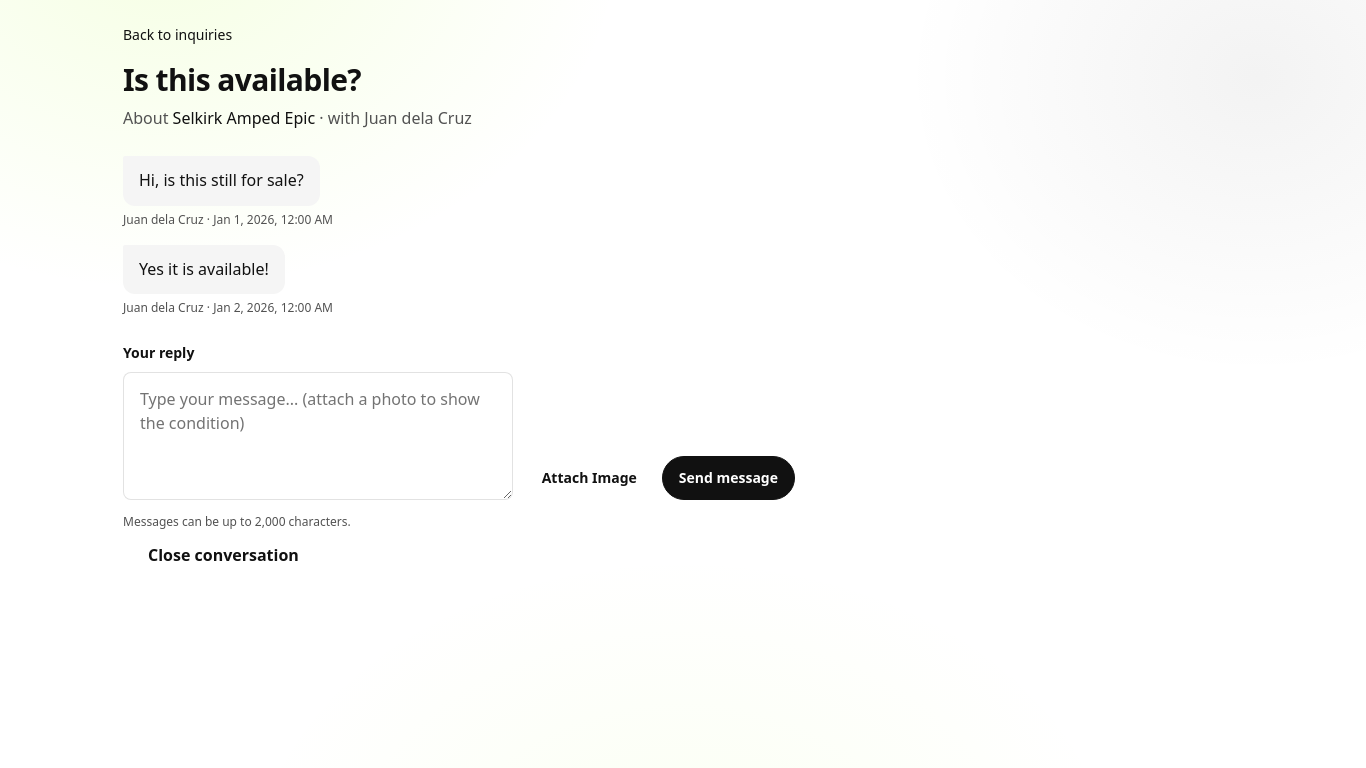
Scenario: InquiryDetailPage › sends a reply and appends it to the thread
Type "Great, it is yours!" into the text box labelled "Your reply".
click(318, 436); type("Great, it is yours!")  # box [123, 372, 513, 500]
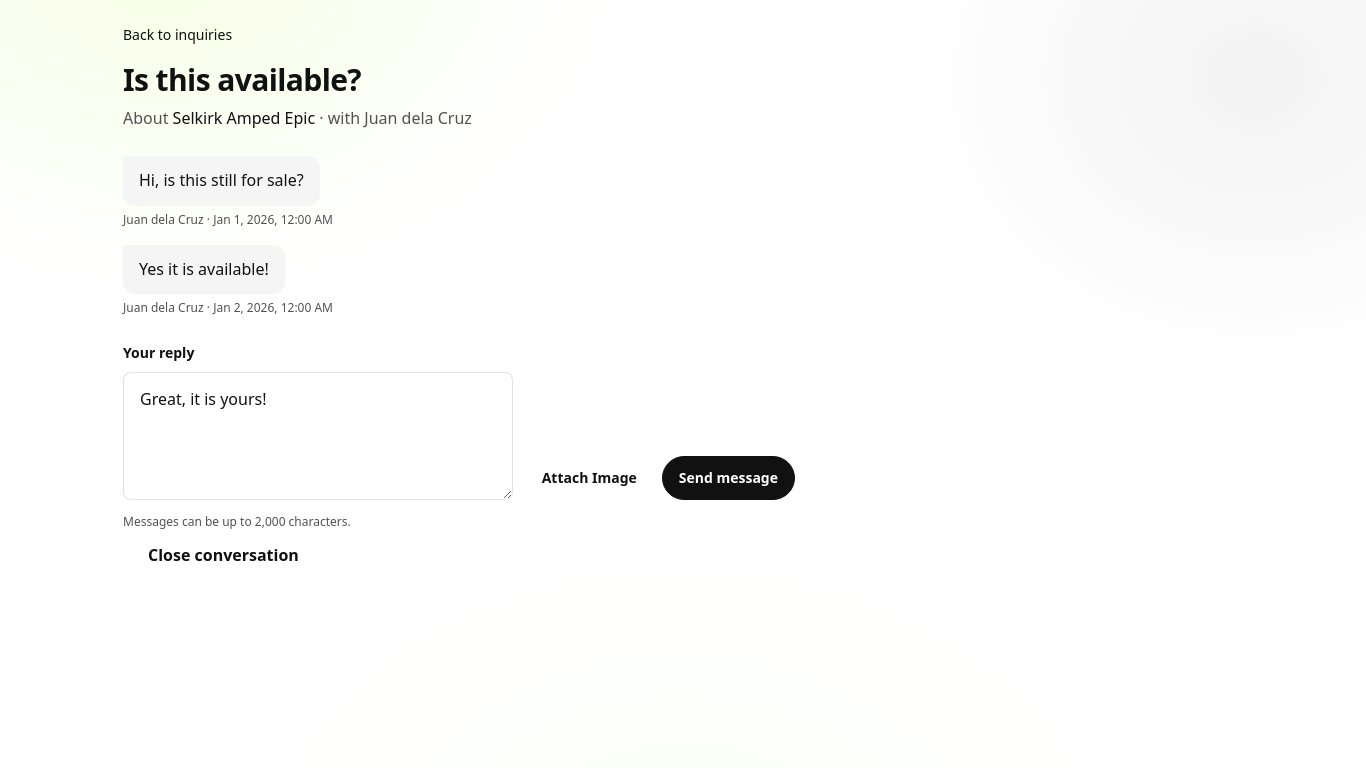
Click the button "Send message".
click(728, 478)  # box [662, 456, 795, 500]
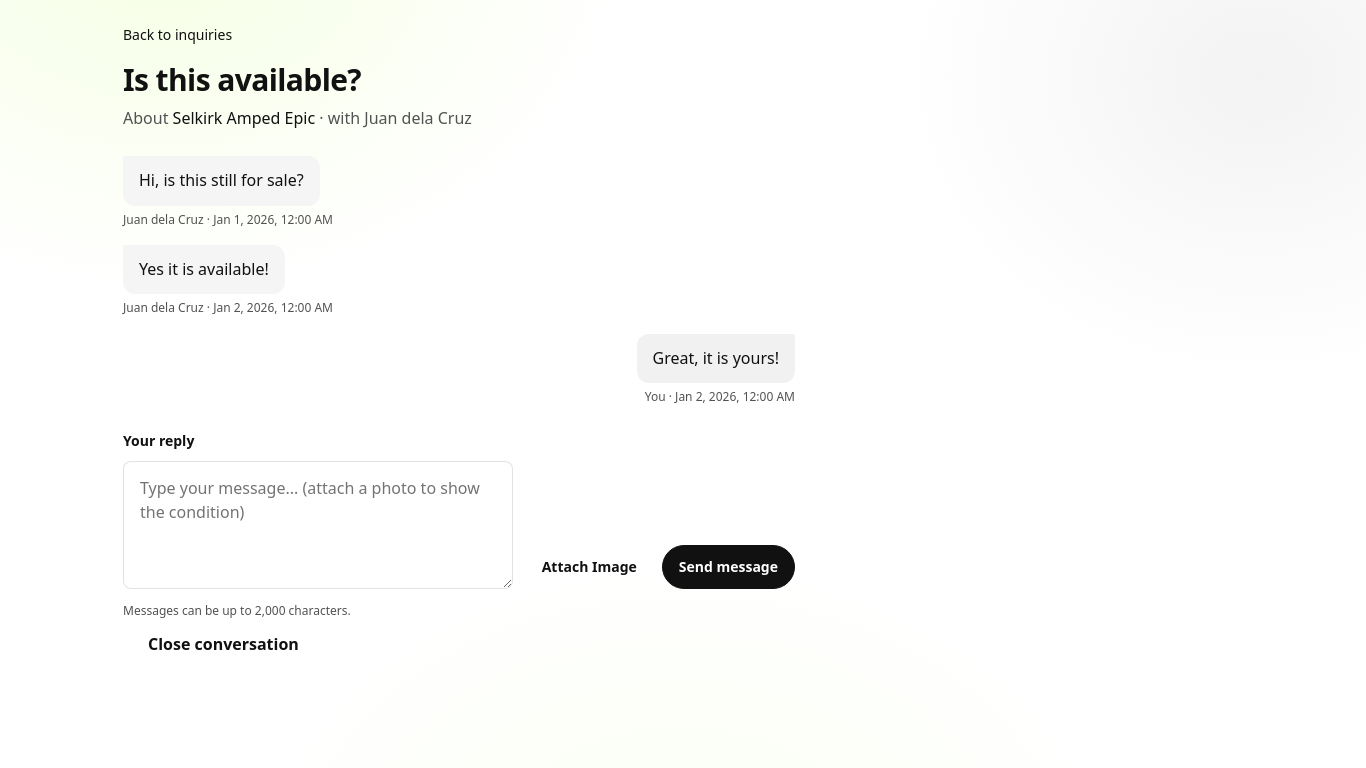
Check: the text "Great, it is yours!" is shown, box [652, 346, 779, 371]
